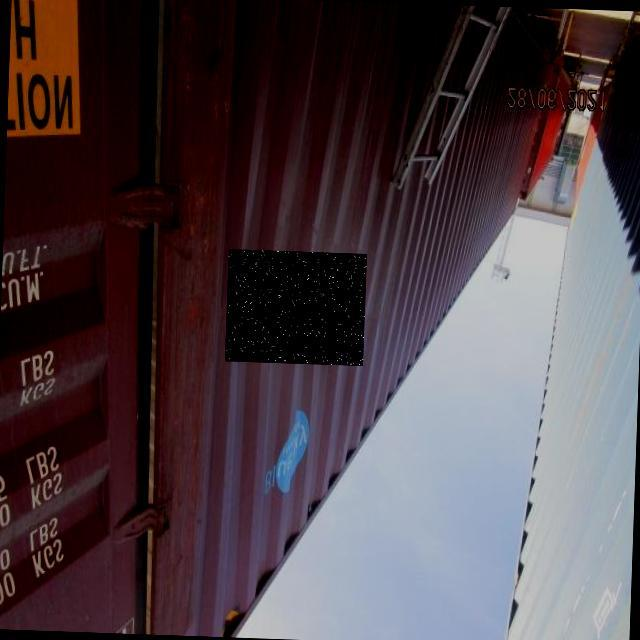Dent: (225, 249, 367, 366)
